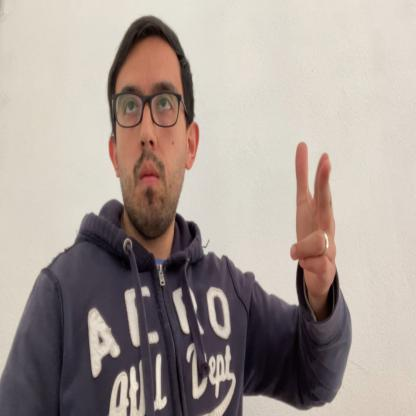H: (292, 136, 340, 291)
